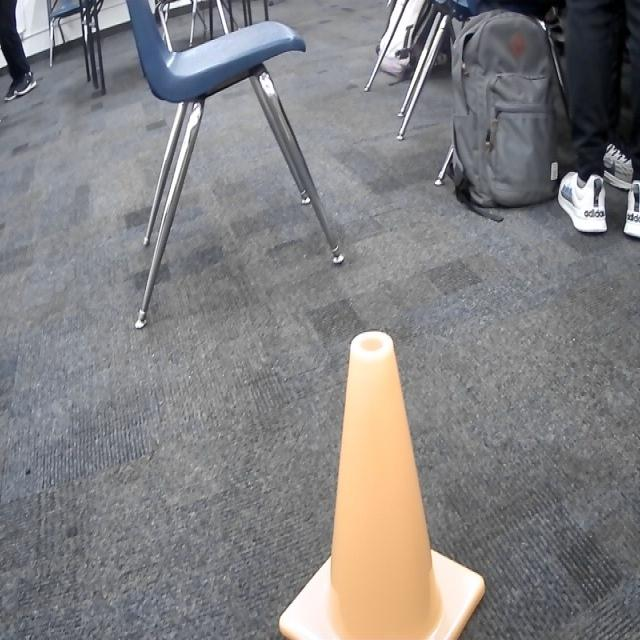cone: (277, 329, 485, 640)
